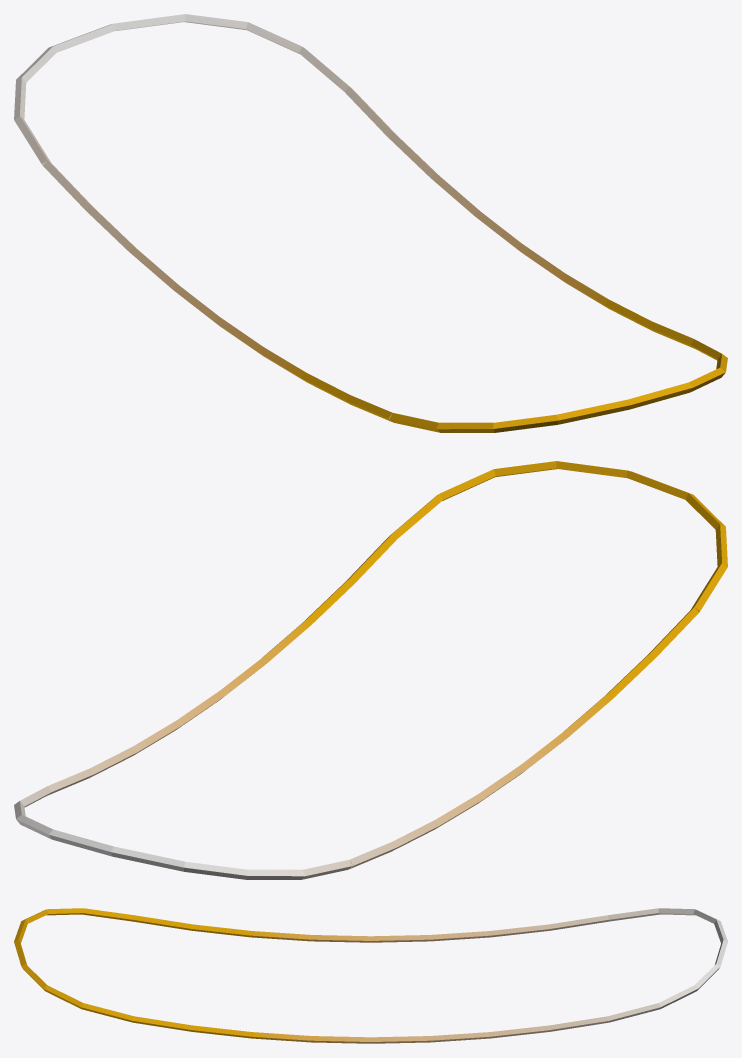
Rendered from hover.glb.
The picture shows the model from 3 angles, top to bottom: view 1: azimuth 30°, elevation 25°; view 2: azimuth 150°, elevation 25°; view 3: azimuth 270°, elevation 25°; orthographic projection. The views are drawn at different scales.
Parts seen in each view (by area): view 1: hover; view 2: hover; view 3: hover.
Boxes of the visible parts, x1,y1,x2,y2 form: hover: (14, 14, 727, 432); hover: (14, 461, 727, 879); hover: (14, 908, 727, 1043).
Bounding box in the file's own units: 0.824 × 0.1982 × 2.39.
